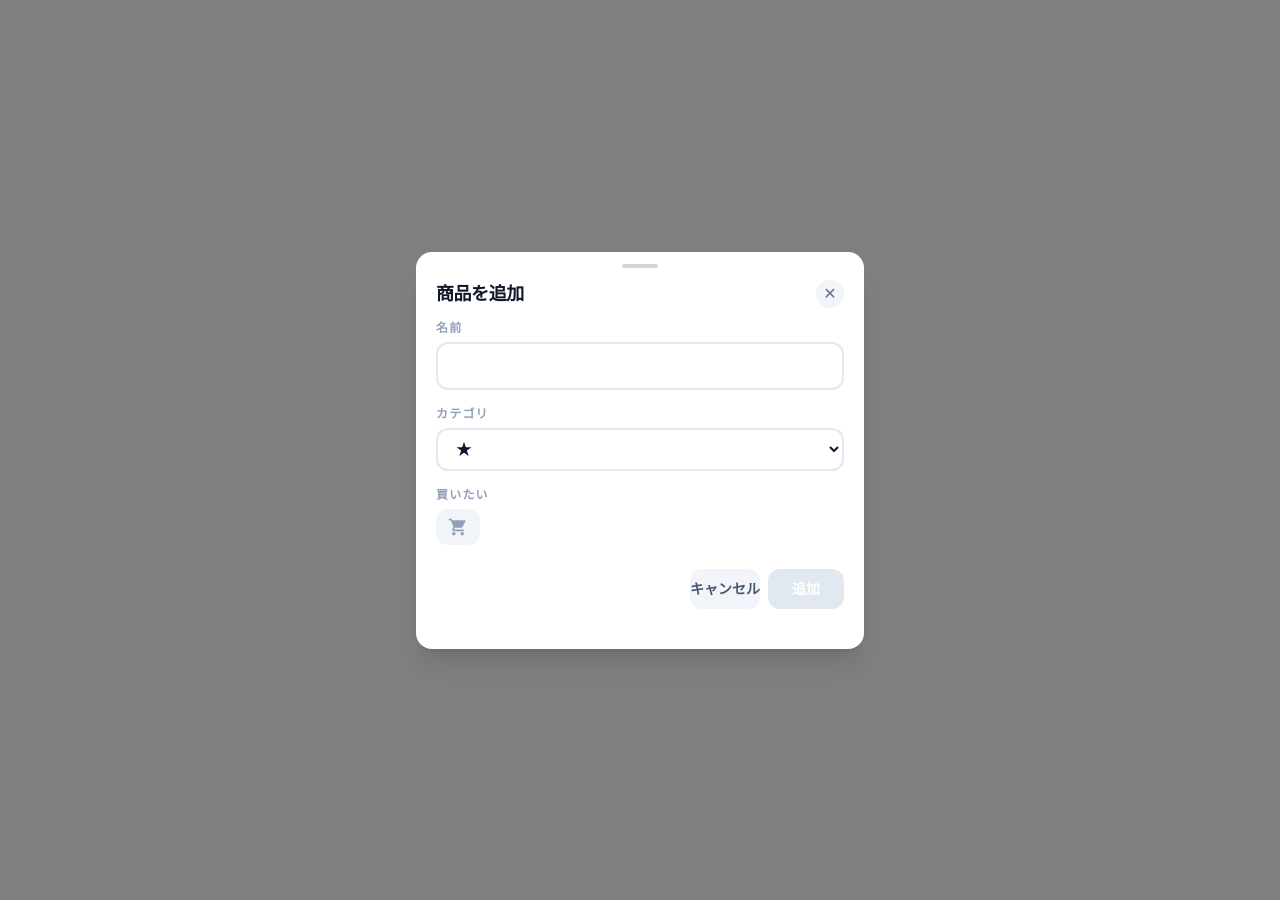
Test case: CreateItemModal › 重複エラーでエラーメッセージが表示される
Type "醤油" into the field labelled "名前" at x=640, y=366, box top-left (436, 342), bottom-right (844, 390)
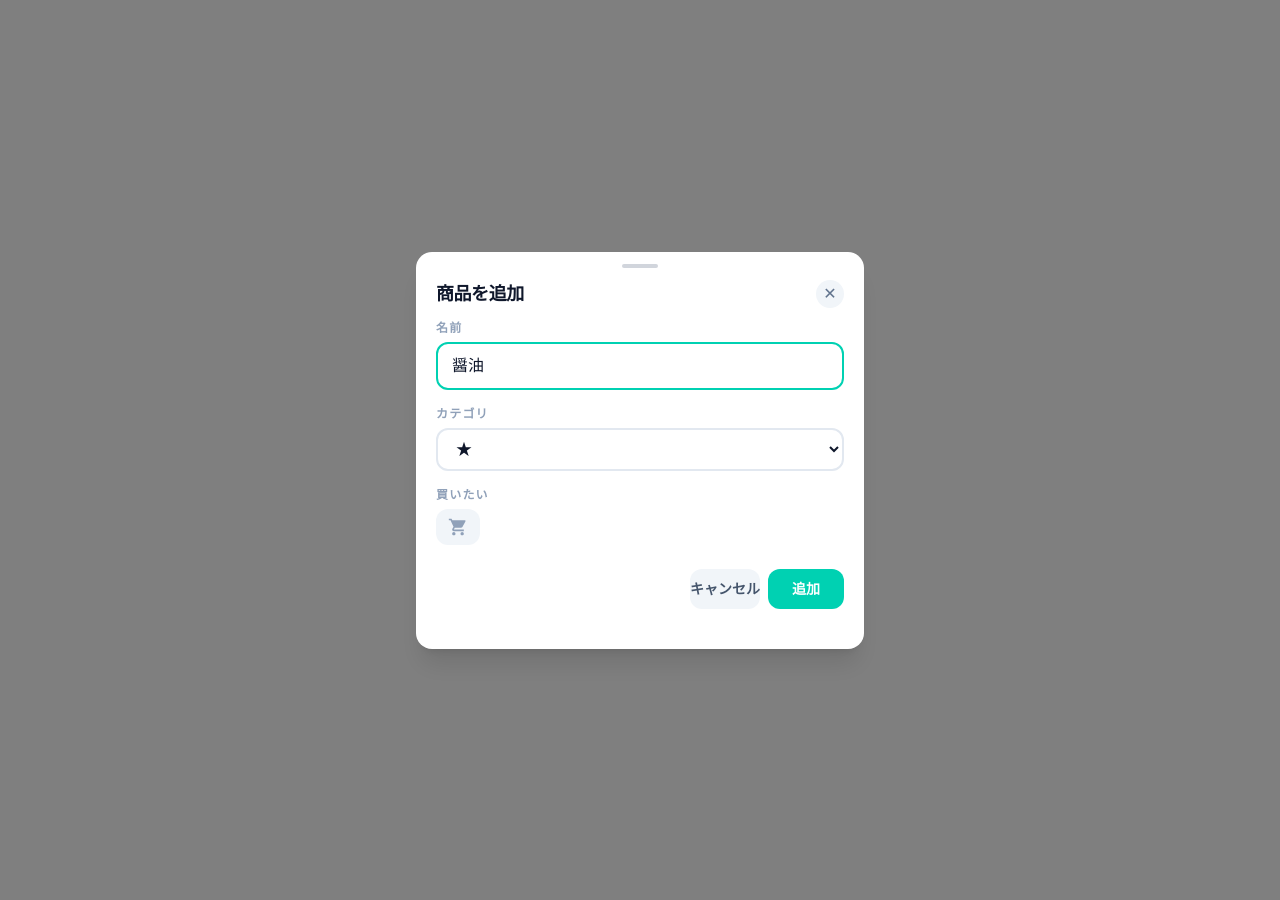
Click the button "追加" at x=806, y=588, box top-left (768, 568), bottom-right (844, 608)
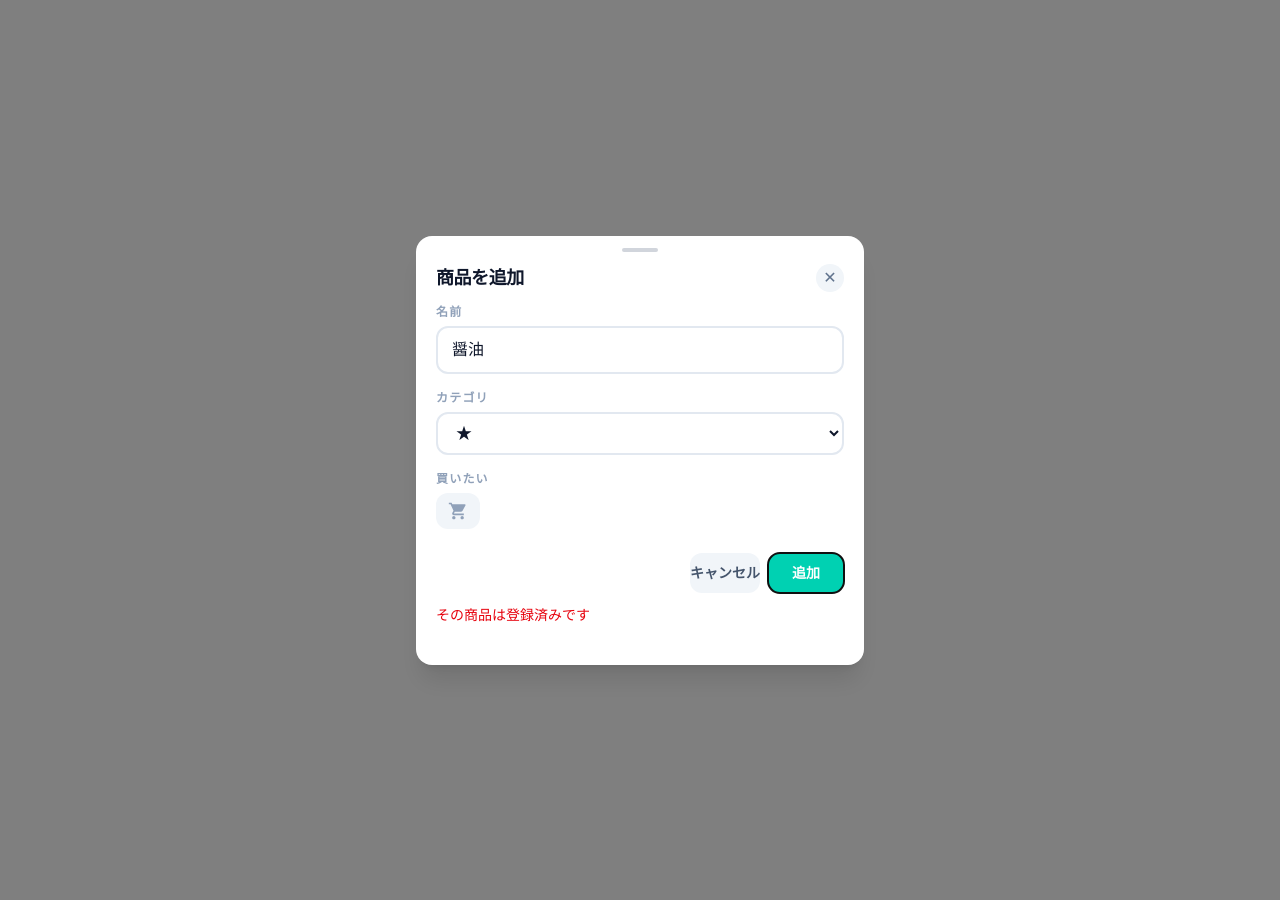
Expected: the text "その商品は登録済みです" is shown, top-left (436, 606), bottom-right (590, 622)
